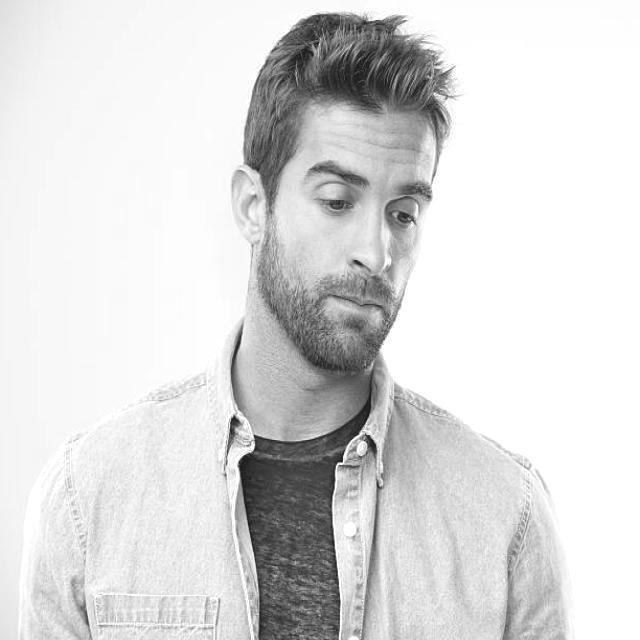Looking away: (260, 104, 435, 374)
